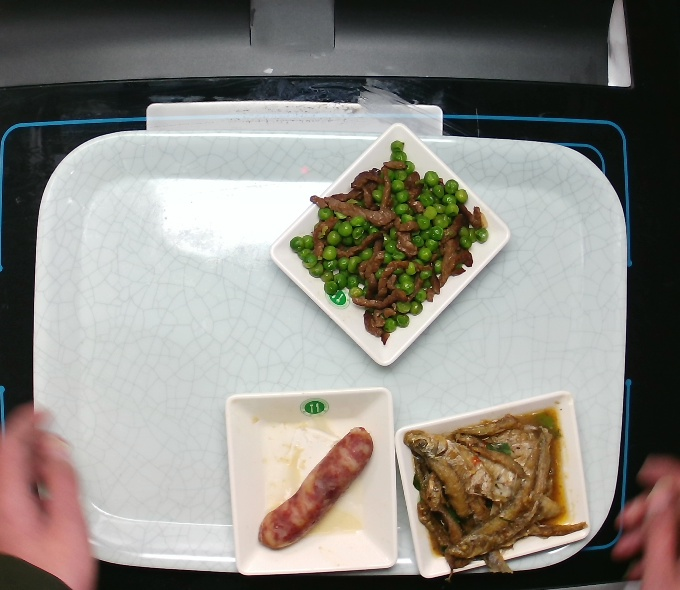wcq-CanDouNiuRou: (288, 140, 489, 340)
wcq-XiangChang: (256, 424, 375, 550)
wcq-XiaoJiYu: (401, 405, 589, 576)
